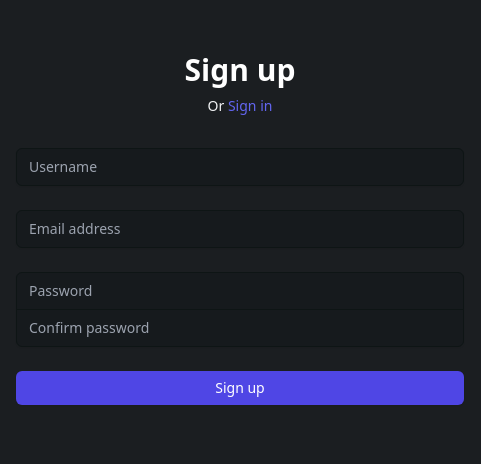
Test case: Register › shows error when password is empty
The image size is (481, 464).
Type "foobar" into the field with test id "username" at (240, 166), box [16,148,464,186]
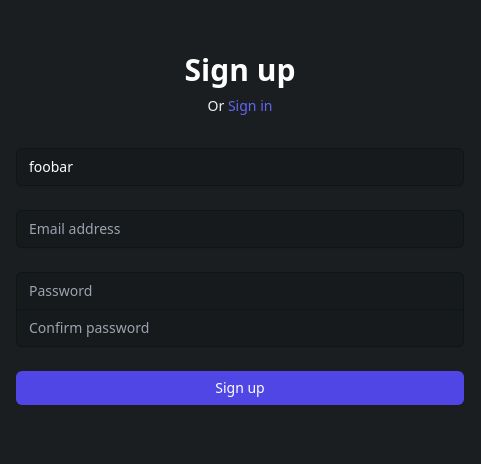
Type "foobar" into the field with test id "email-address" at (240, 228), box [16,210,464,248]
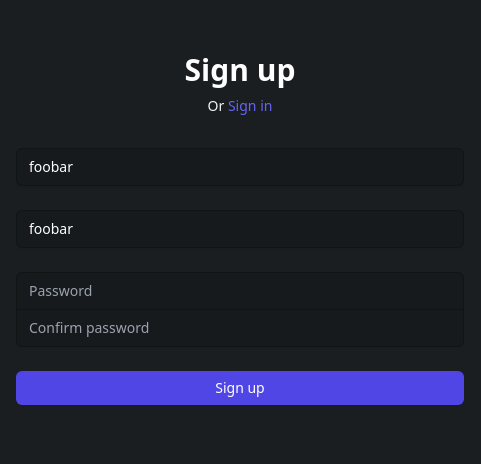
Type "foobar" into the password field with test id "confirm-password" at (240, 328), box [16,308,464,346]
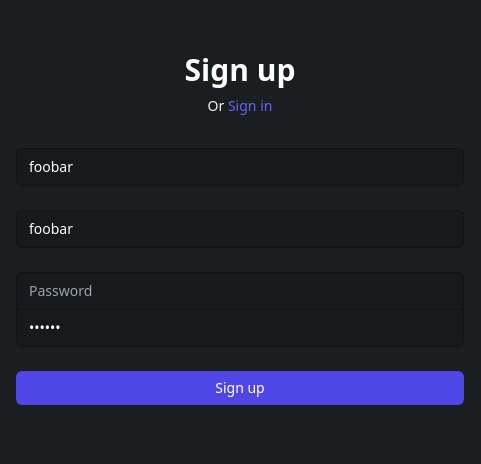
Click the button at (240, 388), box [16,370,464,404]
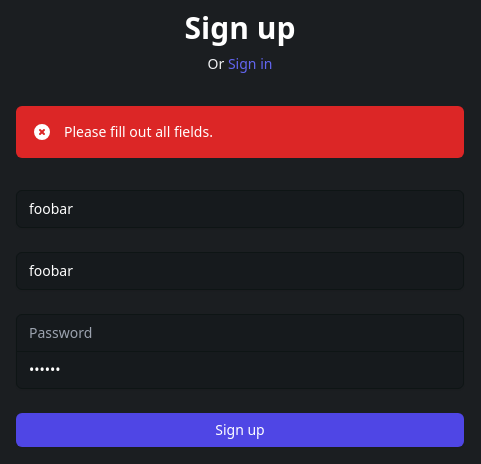
Result: the heading "Please fill out all fields." is shown at [64,122,213,142]
